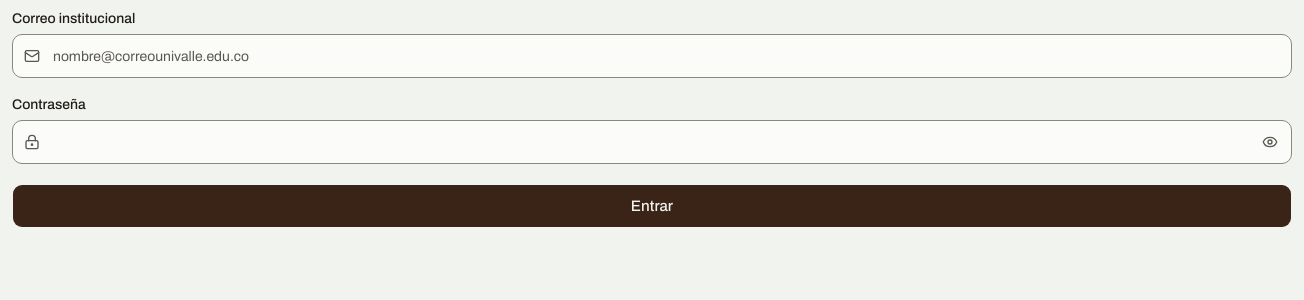
Test case: LoginForm › muestra errores de validación bajo cada campo sin enviar
Step 1. Type "correo-invalido" into the field labelled "Correo institucional" → (652, 56), box 12,34 -> 1292,78
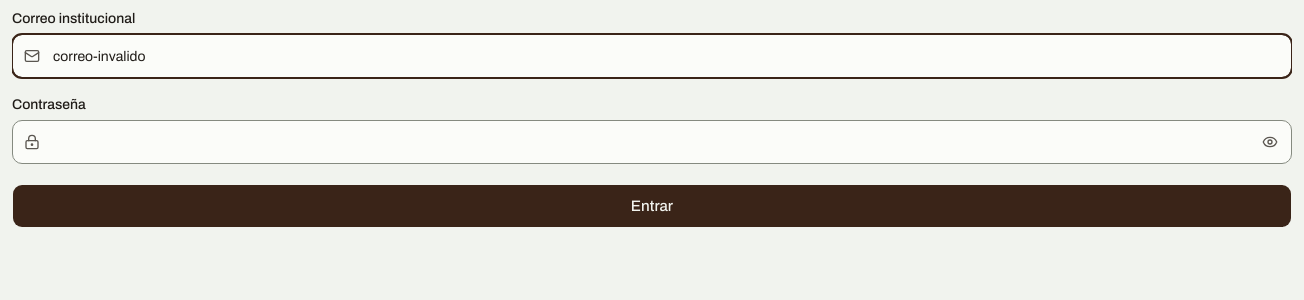
Step 2. Type "corta" into the password field labelled "Contraseña" → (652, 142), box 12,120 -> 1292,164
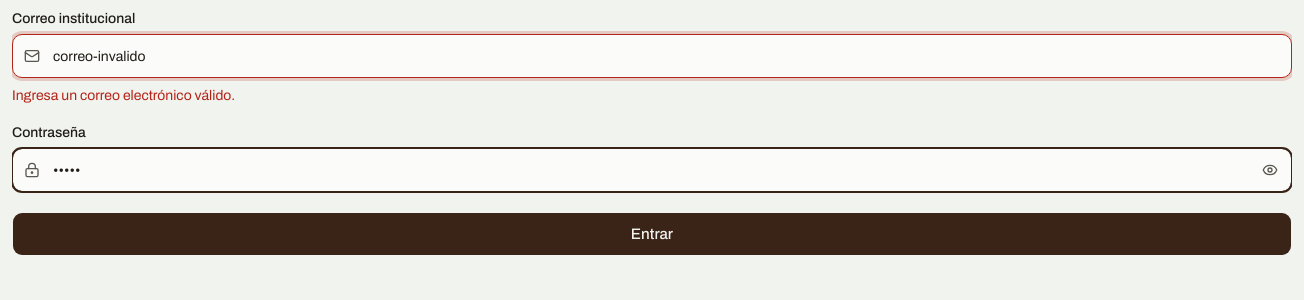
Step 3. Click the button "Entrar" → (652, 234), box 12,212 -> 1292,256
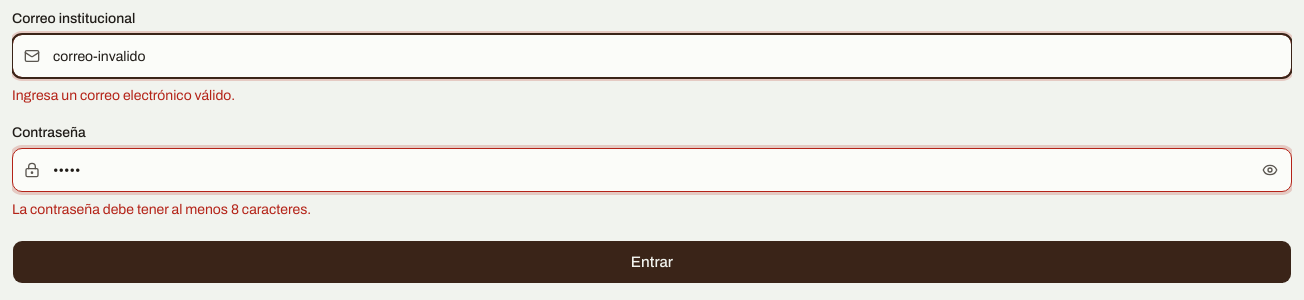
Expected: the text "Ingresa un correo electrónico válido." is shown, 12,88 -> 235,103
Expected: the text "La contraseña debe tener al menos 8 caracteres." is shown, 12,202 -> 311,217
